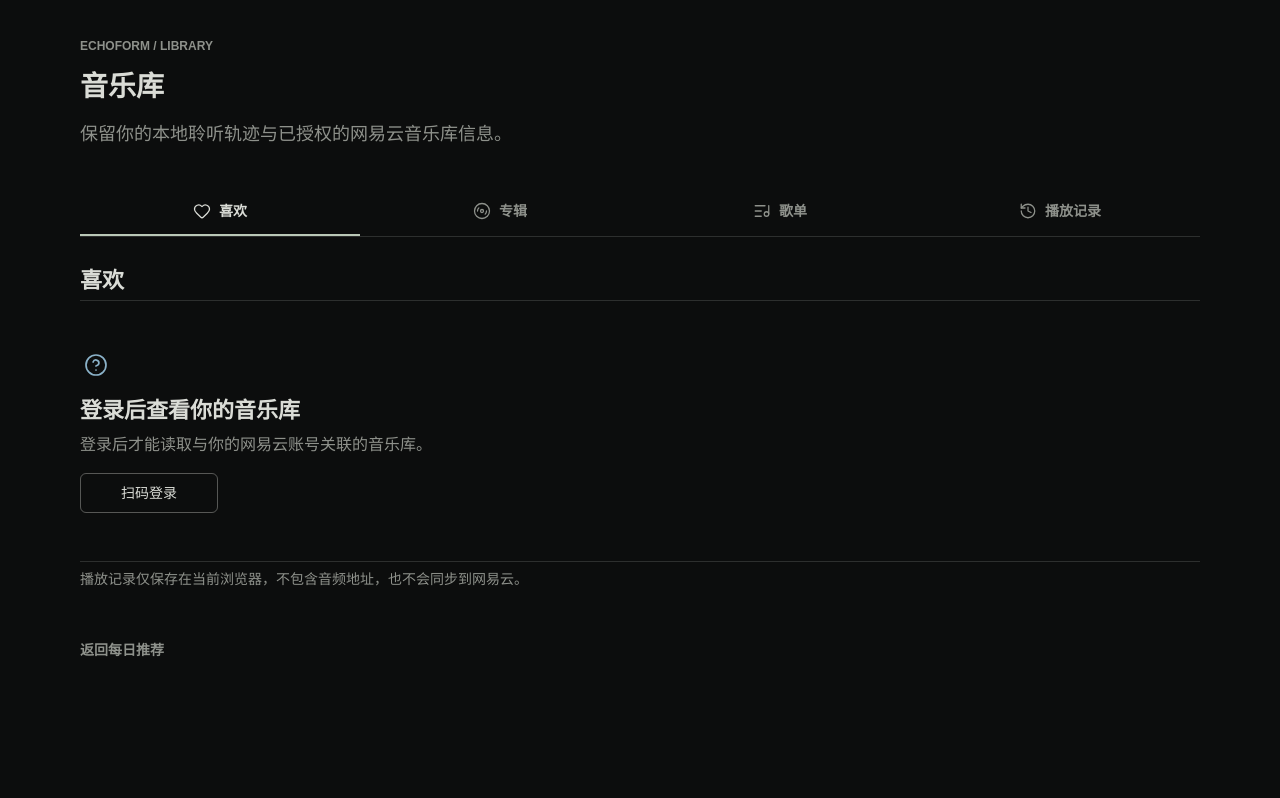
Test case: LibraryExperience › reads local history offline, preserves the first segment, and reveals more rows
Click the tab "播放记录" at (1060, 212), box left=920, top=188, right=1200, bottom=236
(page scrolled)
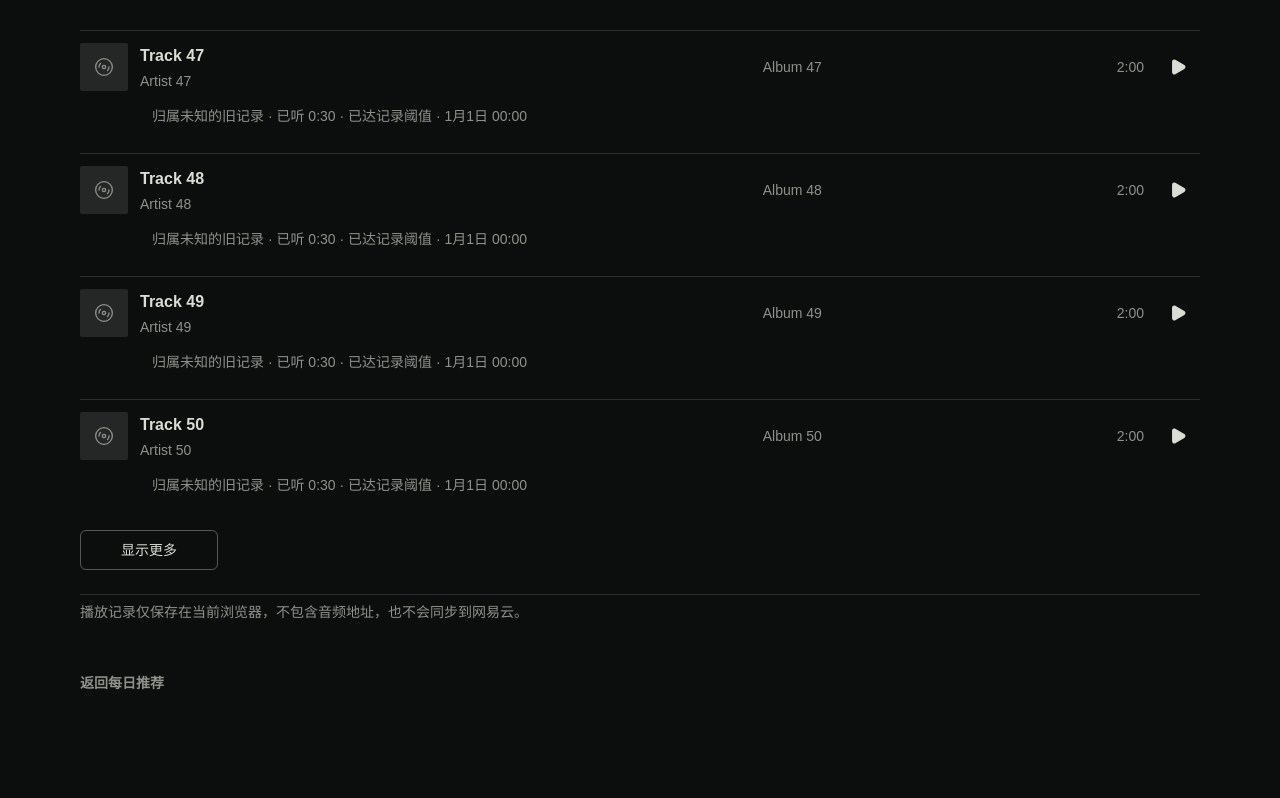
Check: the text "Track 51" is not shown
Click the button "显示更多" at (149, 550), box left=80, top=530, right=218, bottom=570
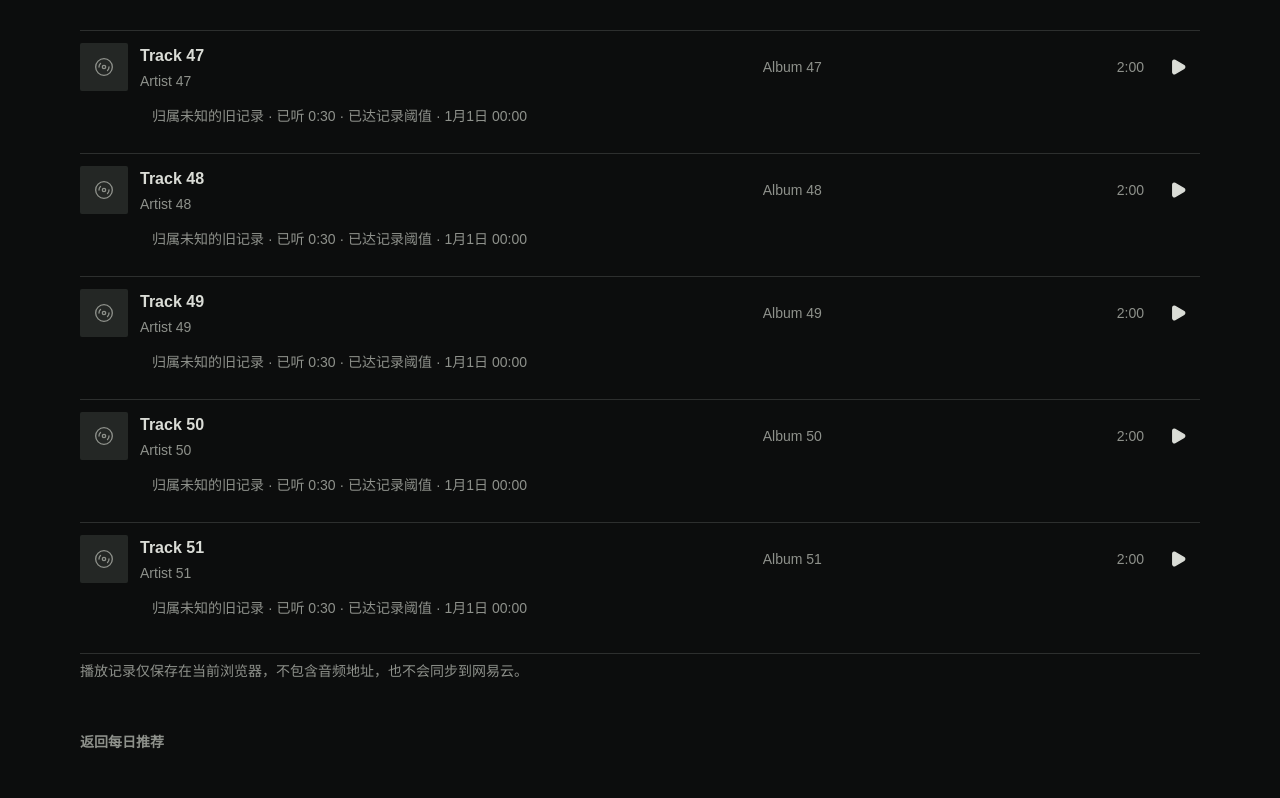
Check: the text "Track 51" is shown, box left=140, top=536, right=204, bottom=560
